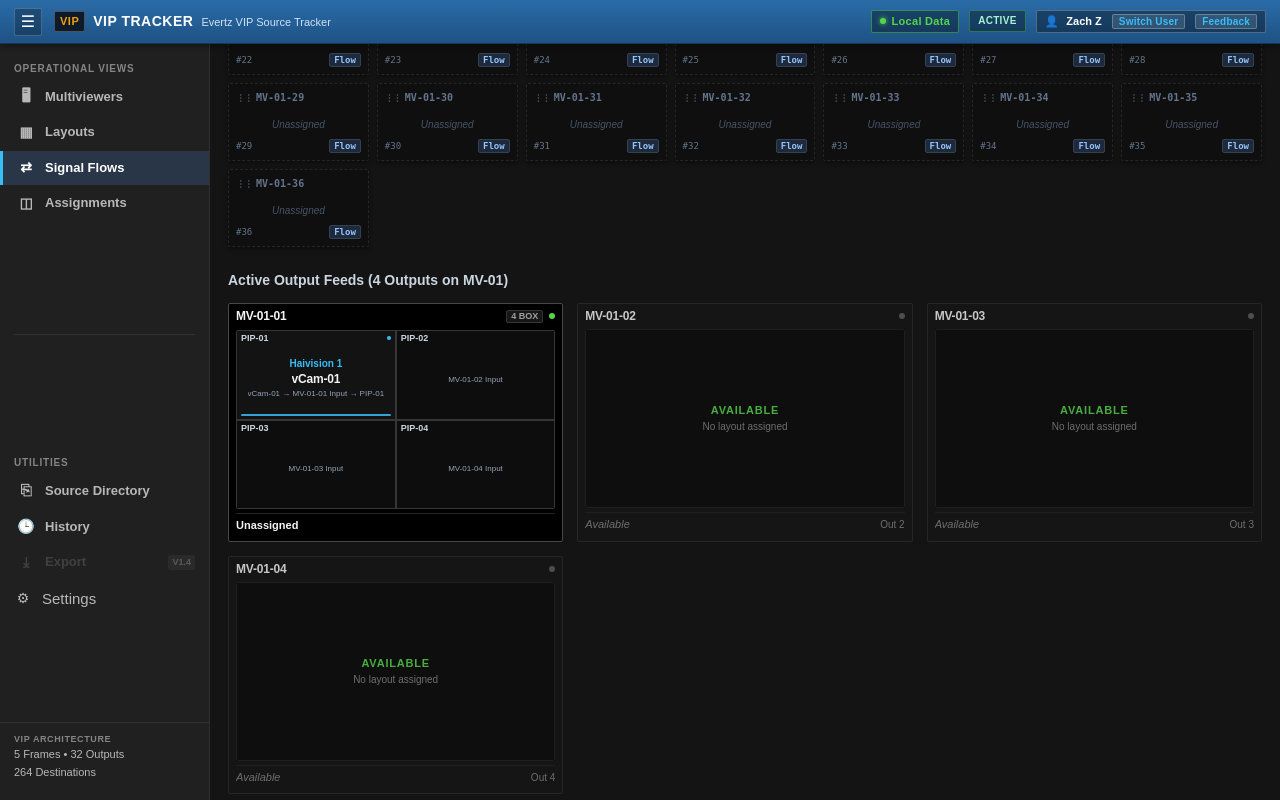
Test: Source Aliases Feature › TEST 8: Alias displays alongside actual source name across Multiview cards, detail modal, destination matrix, and compact selectors
This screenshot has width=1280, height=800.
(page scrolled)
Expected: the text "vCam-01" is shown, x1=292 y1=371 x2=340 y2=388
Expected: the text with test id "pip-source-alias-PIP-01" reads "Haivision 1", x1=289 y1=358 x2=342 y2=369
Note: Output Detail Modal (spacious PIP detail + Covered Destinations table + compact MV Inputs palette)
Click the button with test id "output-card-OUT:MV-01-01" at [396, 422], box x1=228 y1=303 x2=563 y2=542
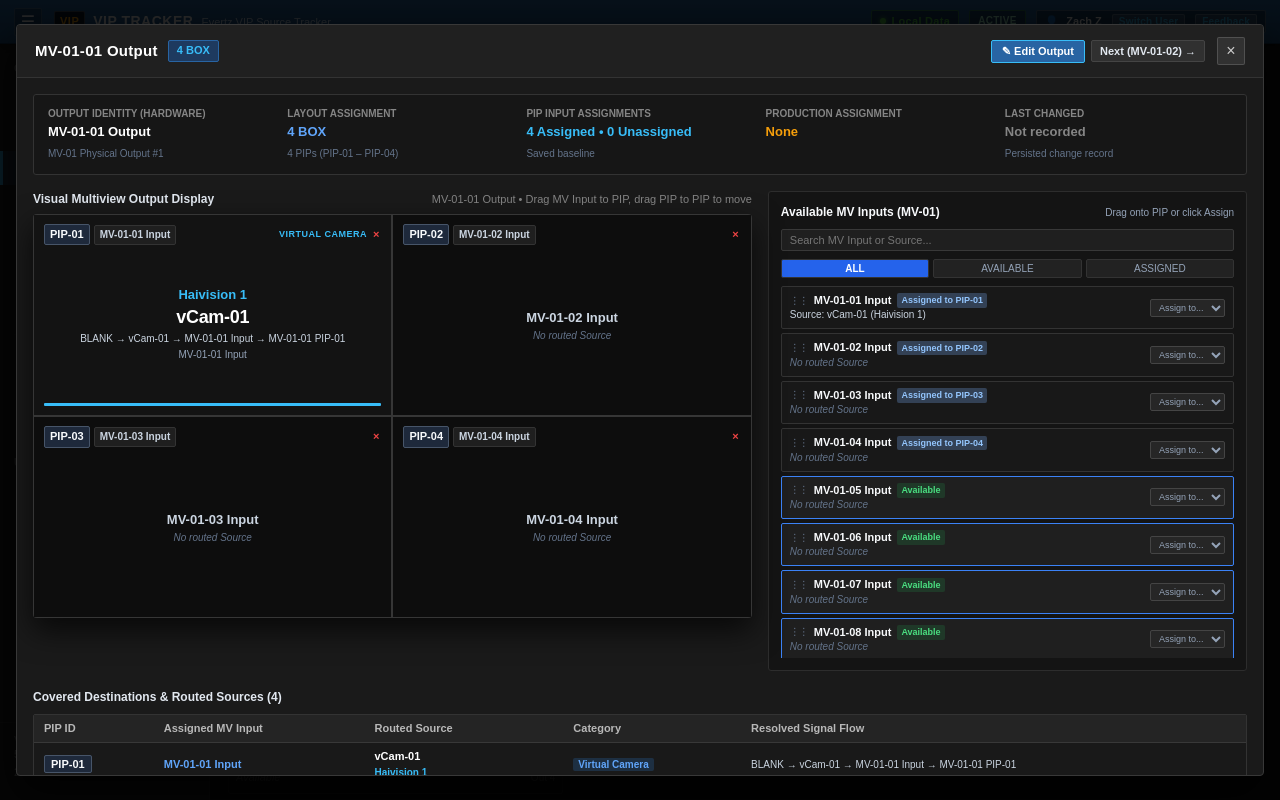
Expected: the text with test id "detail-pip-source-alias-PIP-01" reads "Haivision 1", x1=178 y1=287 x2=247 y2=302
Expected: the element with test id "palette-input-DEST:MV-01-01" shows "Source: vCam-01 (Haivision 1)", x1=790 y1=309 x2=926 y2=320
Expected: the text "vCam-01" below "Assigned MV Input" is shown, x1=374 y1=750 x2=420 y2=762
Note: Compact Source Routing Selector Modal displays "vCam-01 (Haivision 1)"
Click the button with test id "enter-edit-mode-btn" at [1038, 51], box x1=991 y1=40 x2=1085 y2=62
(page scrolled)
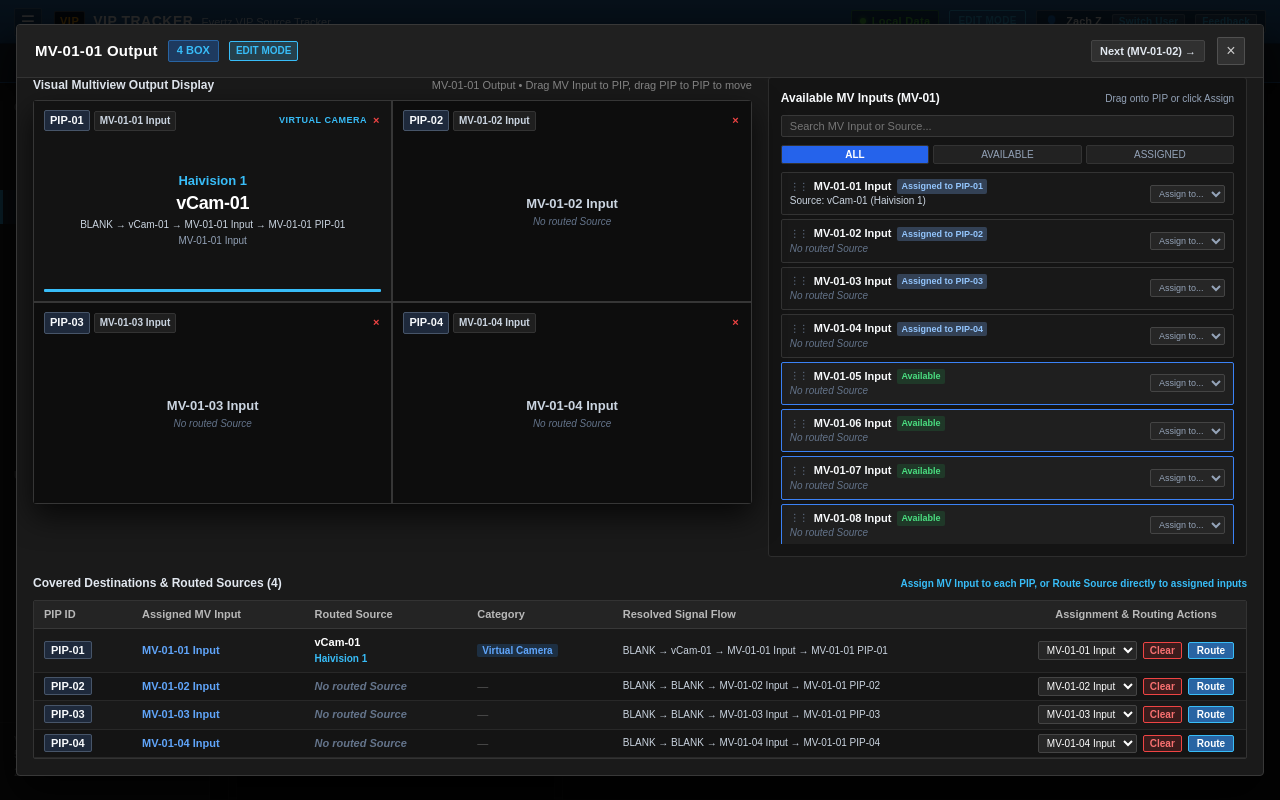
Click the button with test id "route-btn-0" at [1211, 651], box x1=1188 y1=642 x2=1234 y2=659
(page scrolled)
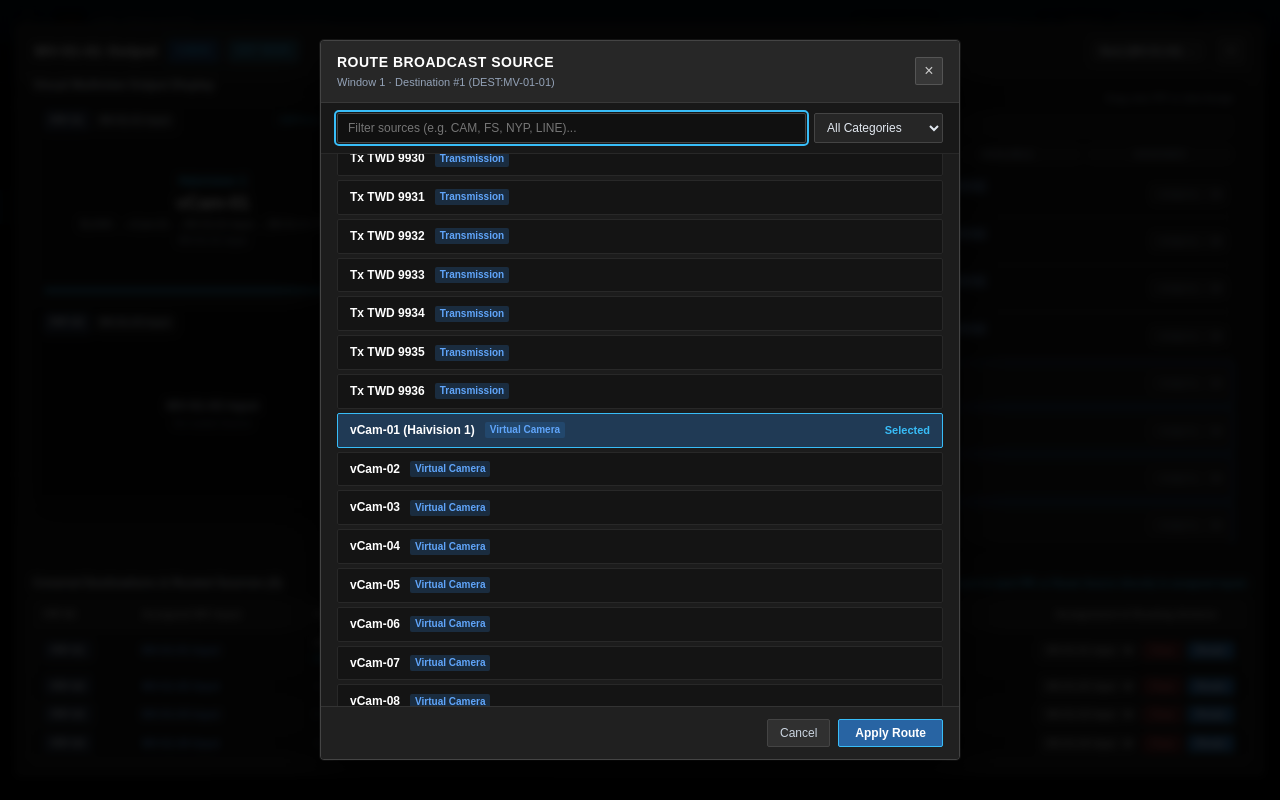
Expected: the element with test id "source-option-SRC:VCAM-01" shows "vCam-01 (Haivision 1)", x1=350 y1=423 x2=475 y2=437
